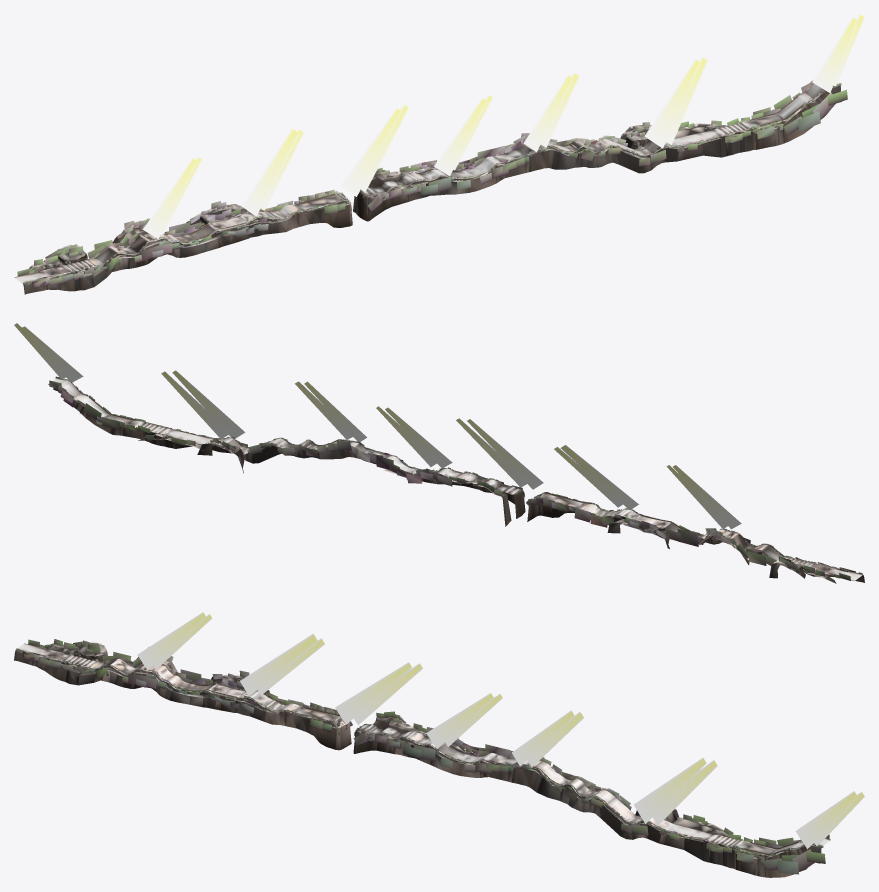
File: Forest_10.fbx
3 views of the same model, one above another, from view 1: azimuth 30°, elevation 25°; view 2: azimuth 150°, elevation 25°; view 3: azimuth 330°, elevation 25° (orthographic).
Parts seen in each view (by area): view 1: Mountain_01, Tree_01, Light_01, Ground_01; view 2: Light_01, Tree_01, Mountain_01, Ground_01; view 3: Mountain_01, Light_01, Tree_01, Ground_01.
Boxes of the visible parts, x1,y1,x2,y2 form: Mountain_01: (23,85,841,294); Tree_01: (17,80,847,287); Light_01: (143,14,864,238); Ground_01: (14,83,838,283); Light_01: (14,323,741,529); Tree_01: (48,376,862,581); Mountain_01: (56,378,864,583); Ground_01: (52,378,862,581); Mountain_01: (14,642,821,877); Light_01: (137,612,864,848); Tree_01: (16,639,830,874); Ground_01: (18,643,830,855).
Size of the model in its own units: 82398 by 11035 by 4138.
